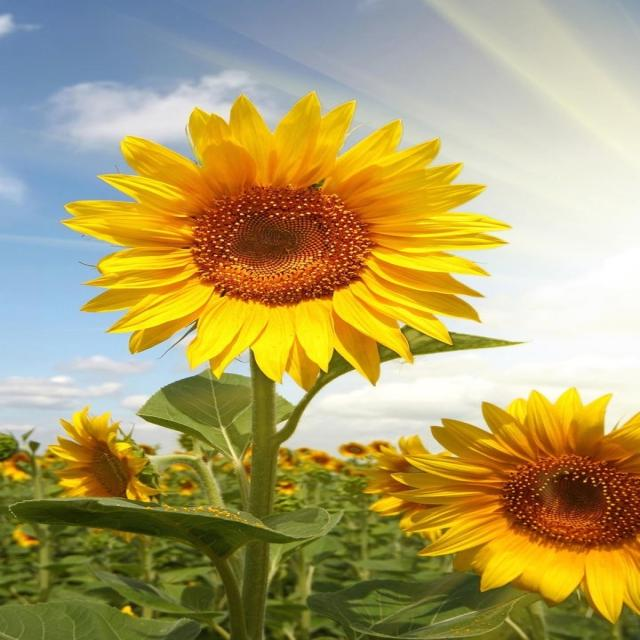sunflower: (53, 84, 514, 393), (373, 383, 640, 628), (40, 408, 155, 516), (336, 434, 372, 461), (308, 443, 337, 467)
